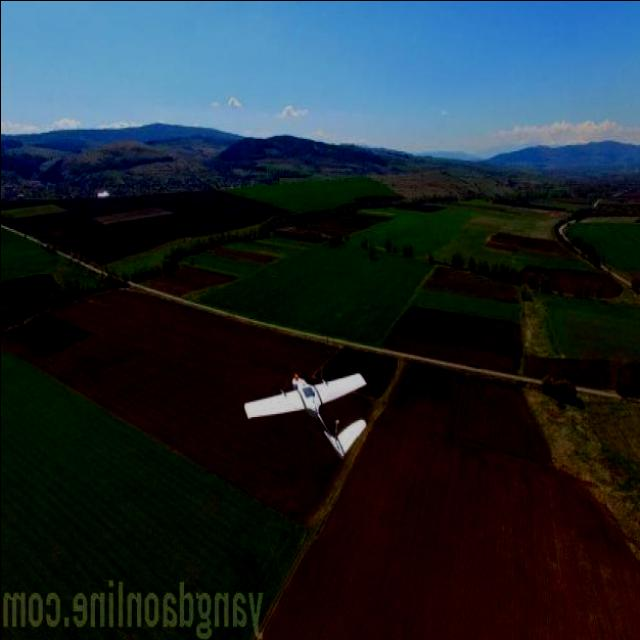plane: (241, 368, 368, 458)
